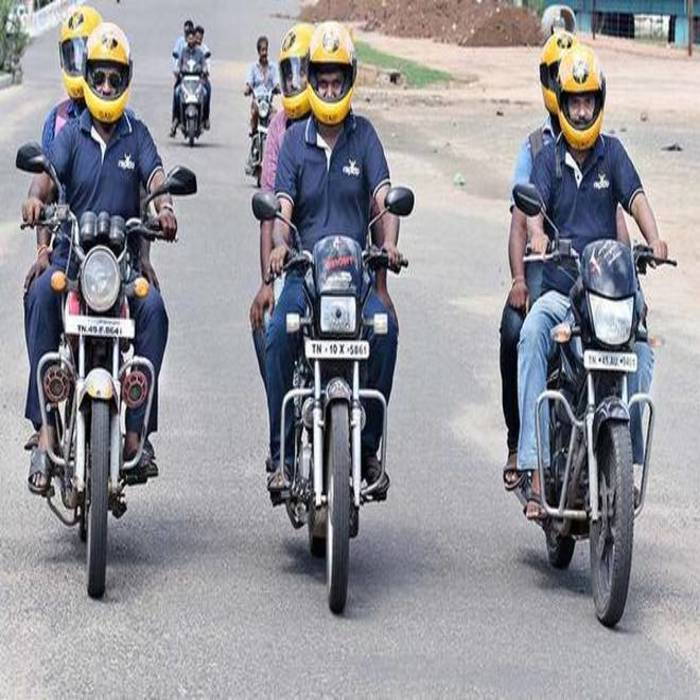h: (554, 45, 607, 153), (306, 21, 359, 128), (82, 22, 136, 125), (282, 20, 318, 124), (59, 2, 86, 99)
n: (64, 314, 135, 343), (304, 339, 371, 362), (582, 349, 638, 376)
